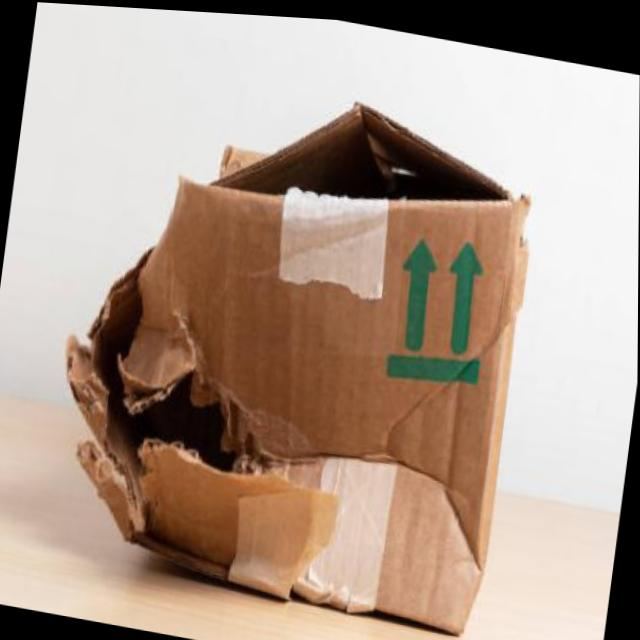box: (31, 36, 569, 640)
